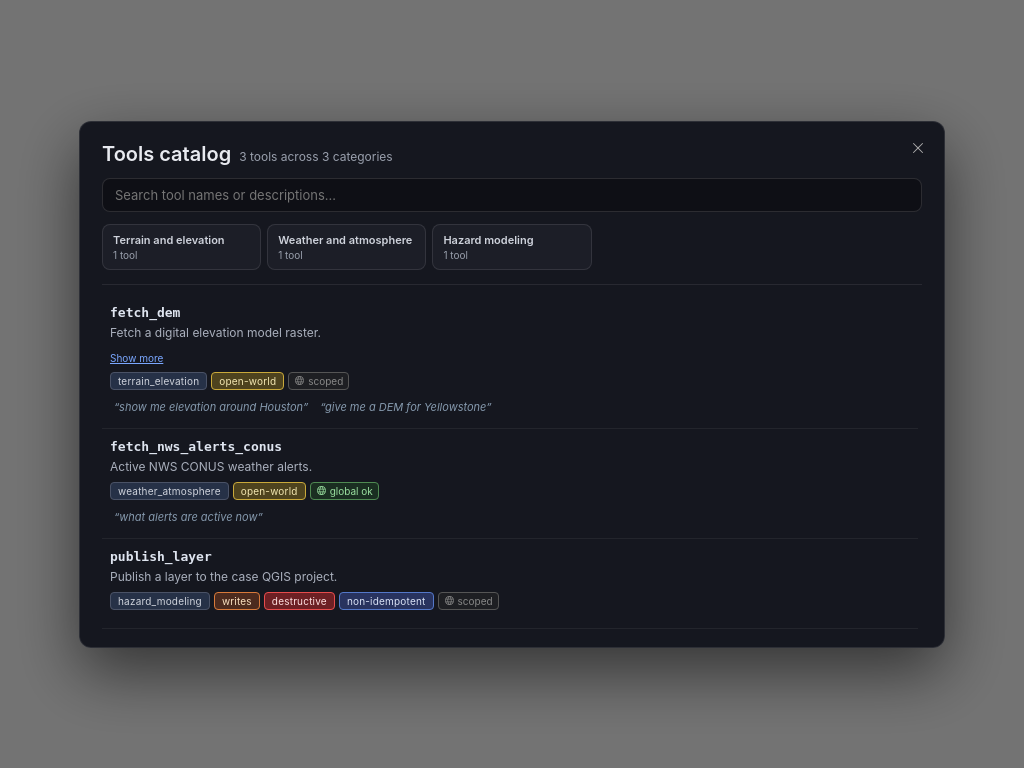
ToolsCatalogPopup › shows the empty-state when no tools match
The width and height of the screenshot is (1024, 768).
Step 1. Type "no-such-tool-xyz" into the field with test id "grace2-tools-catalog-search" → [512, 194], box [102,178,922,212]
Wait 300 ms
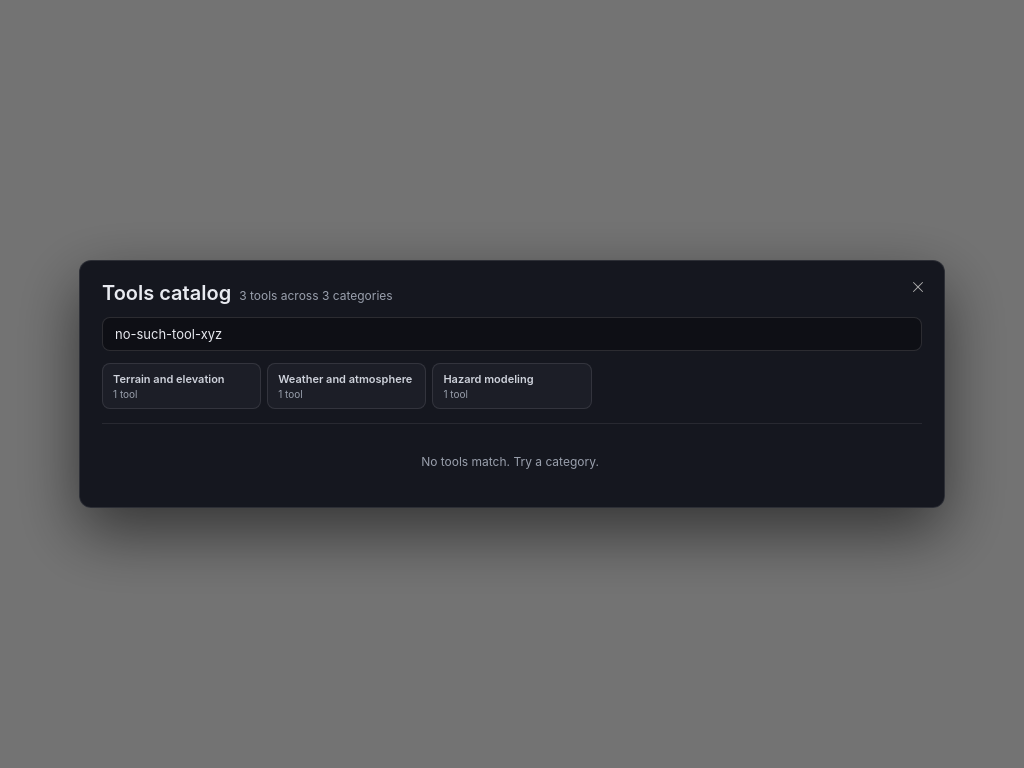
Now the text "No tools match. Try a category." is shown, box [421,454,599,469]
